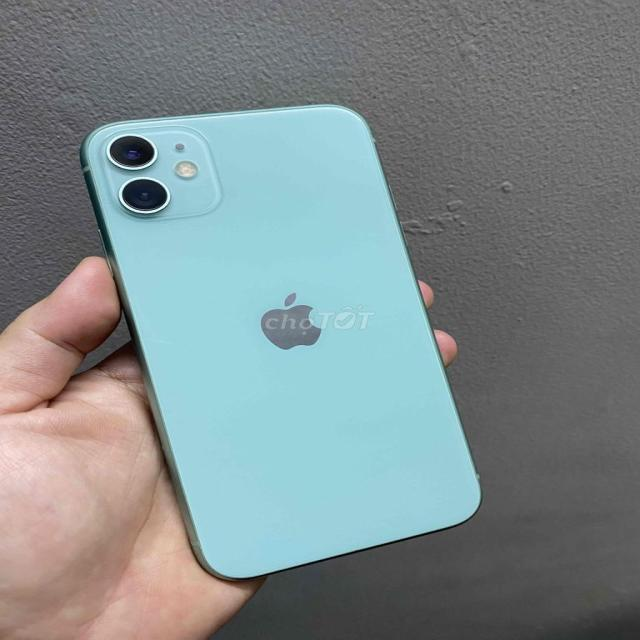gen_11: (82, 106, 479, 579)
